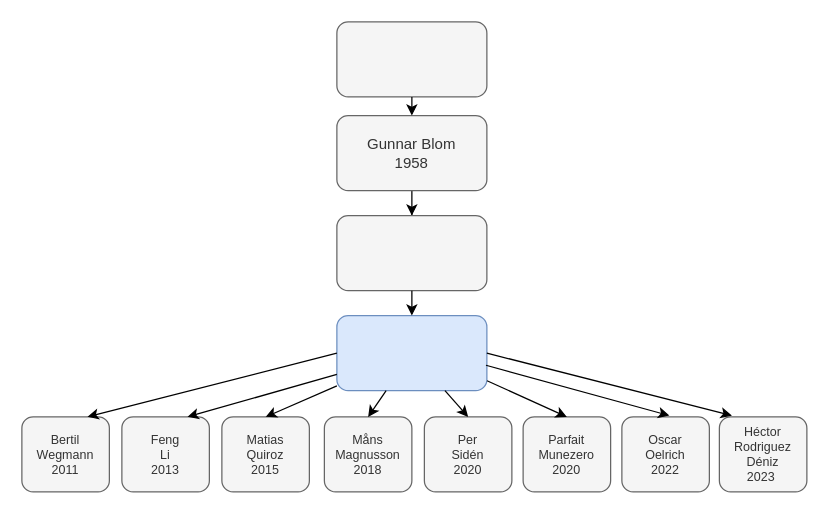
Image size: 829x514. Some labels were removed from this diagram. Each missing label, with the box of its shape:
Daniel Thorburn 1975: (336, 214, 487, 291)
Harald Cramér 1917: (336, 21, 487, 97)
Mattias Villani 2000: (336, 314, 487, 391)
